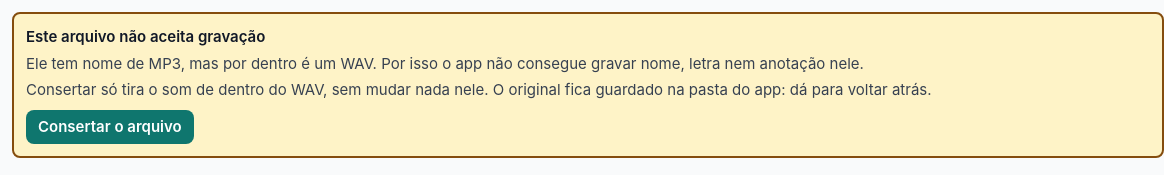
ConsertarArquivo (V16.4) › WAV com nome de MP3: explica, pede confirmação e só então conserta
Expected: the text "Este arquivo não aceita gravação" is shown, top-left (26, 27), bottom-right (265, 46)
Expected: the text "por dentro é um WAV" is shown, top-left (26, 54), bottom-right (864, 72)
Click the button "Consertar o arquivo" at (110, 127), box top-left (26, 110), bottom-right (194, 144)
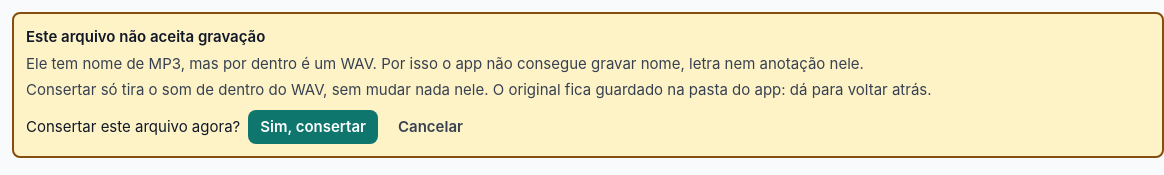
Click the button "Sim, consertar" at (313, 127), box top-left (248, 110), bottom-right (378, 144)
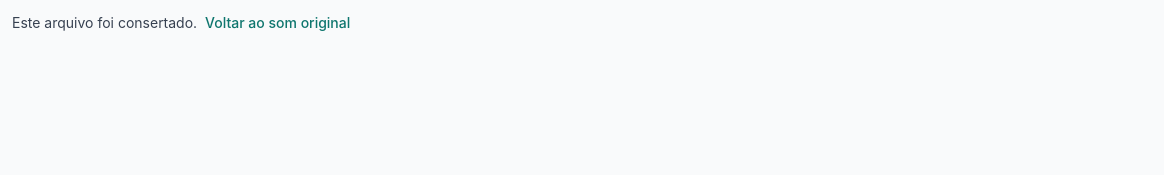
Expected: the button "Voltar ao som original" is shown, top-left (201, 12), bottom-right (354, 33)
